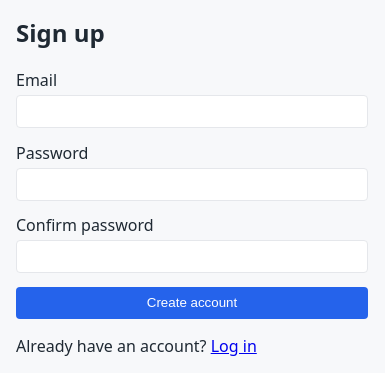
Test: SignupPage › submits a trimmed payload once and shows the check-email success state (positive)
Type "  alice@example.com  " into the field labelled "Email". click: (192, 111)
box: x1=16 y1=95 x2=368 y2=128
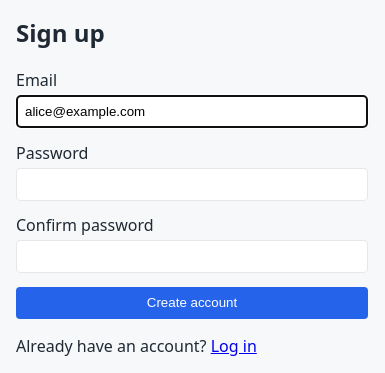
Type "password1" into the password field labelled "Password". click: (192, 184)
box: x1=16 y1=168 x2=368 y2=200
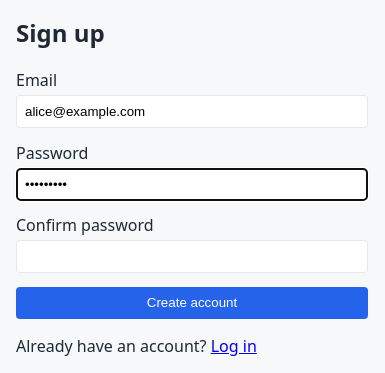
Type "password1" into the password field labelled "Confirm password". click: (192, 257)
box: x1=16 y1=240 x2=368 y2=273
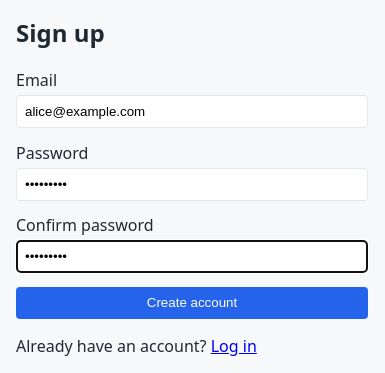
Click the button "Create account". click: (192, 303)
box: x1=16 y1=287 x2=368 y2=319
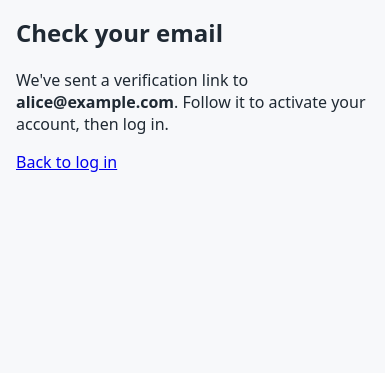
expect the heading "Check your email" is shown: met, box x1=16 y1=16 x2=223 y2=49
